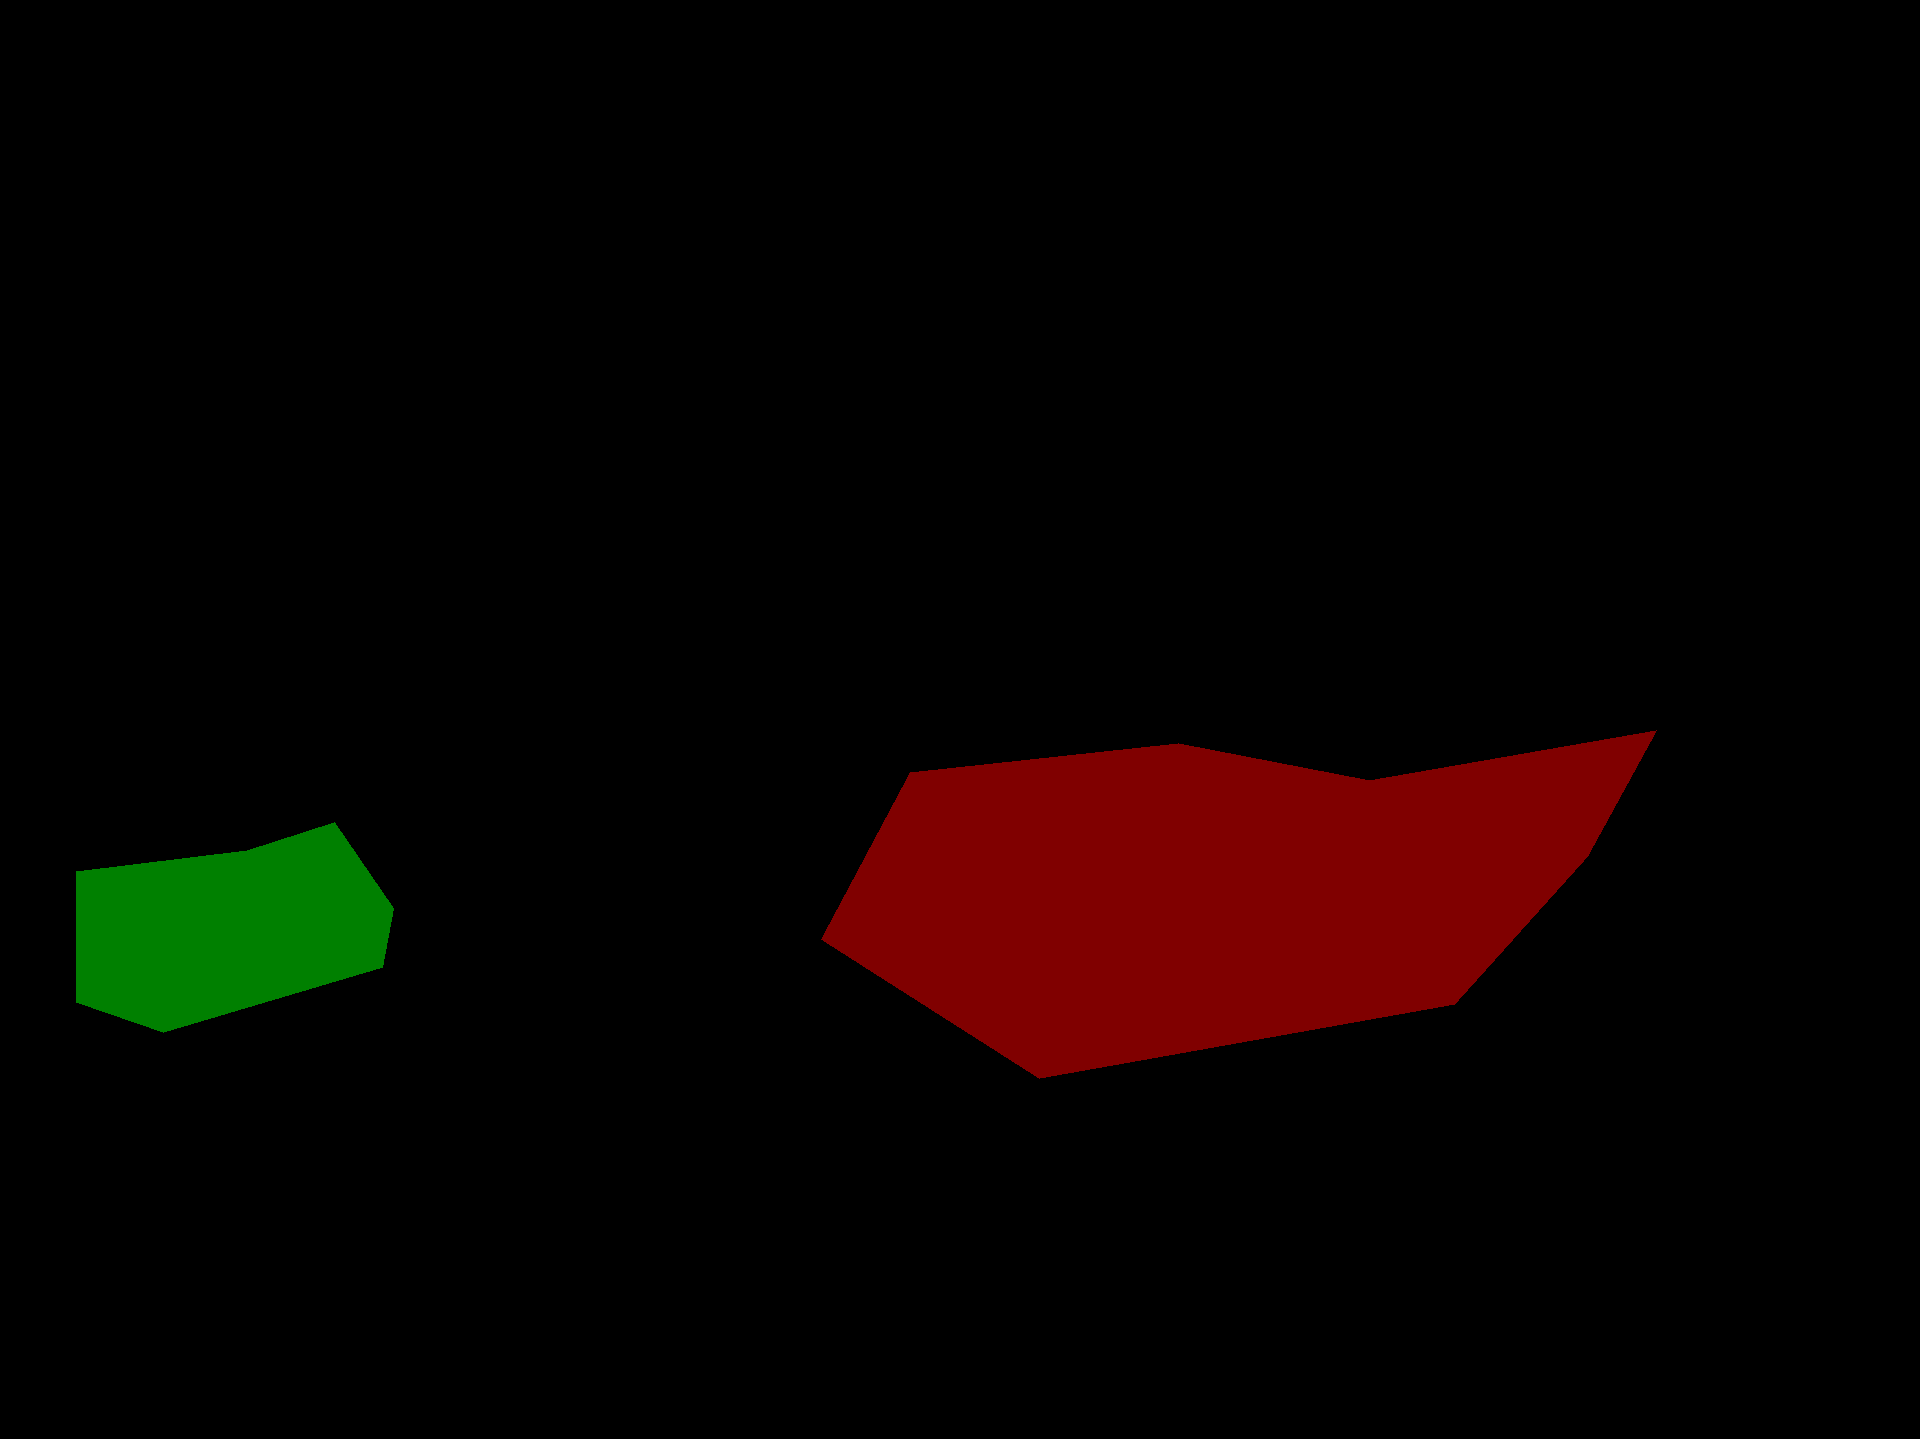fire: (821, 730, 1655, 1078), (76, 822, 393, 1032)
